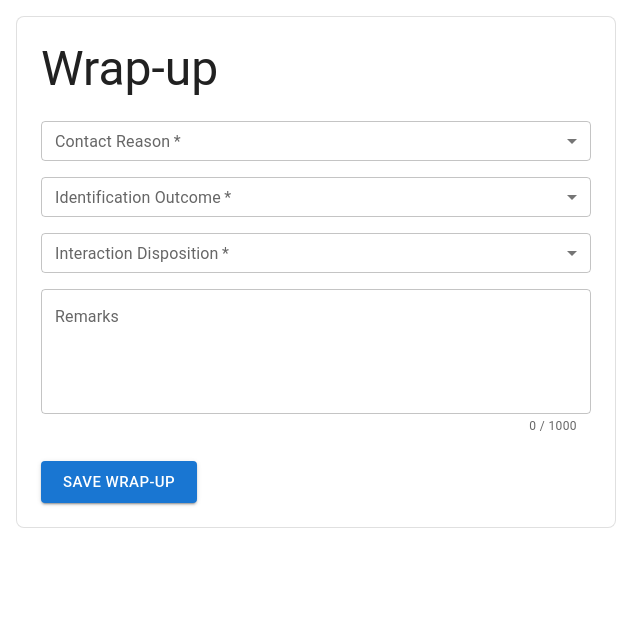
Test: WrapupForm — remarksRequired validation › still does not render "Close Interaction" after clicking Save without selecting a disposition
# Click Save without filling in any fields — validation should block the save
Click the button "Save Wrap-up" at (119, 482), box 41,461 -> 197,503
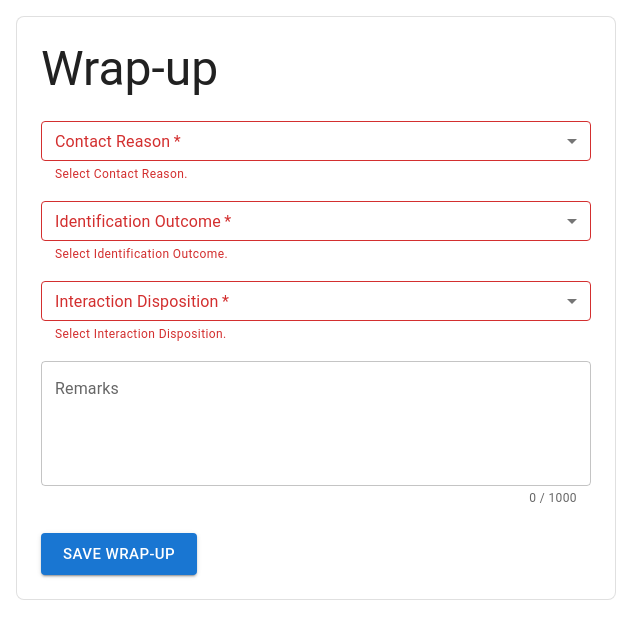
Check: the text "Select Interaction Disposition." is shown, box 55,327 -> 227,341
